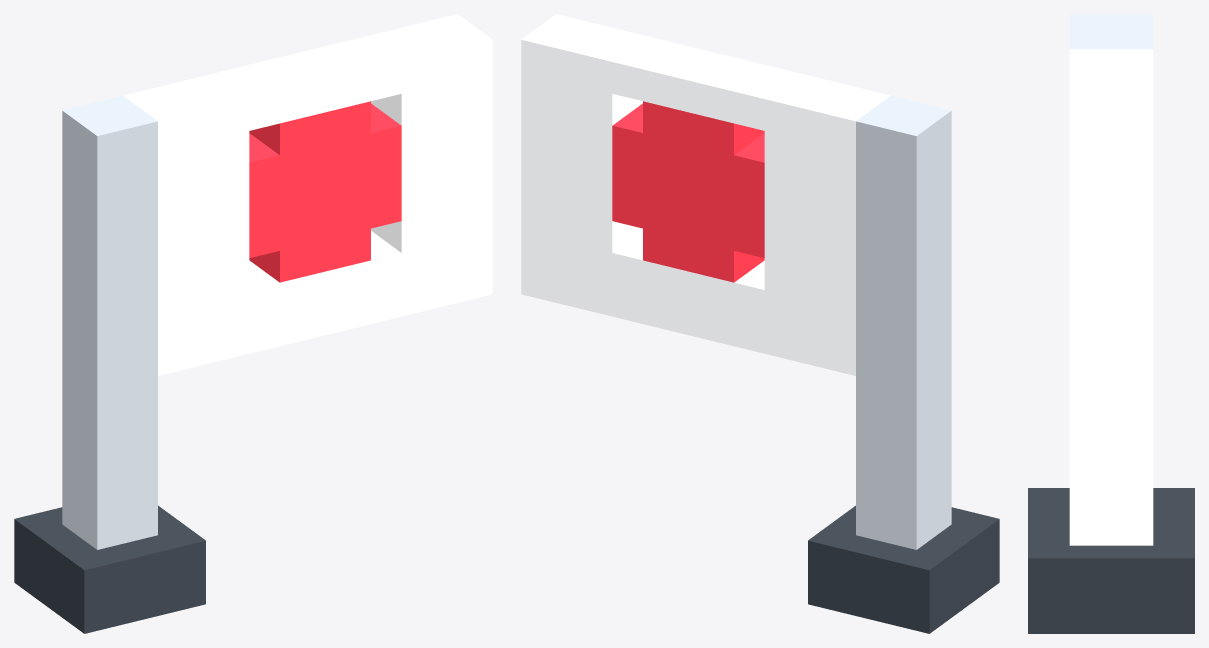
The model's file is voxel-flagjp.glb.
3 views of the same model, side by side, from view 1: azimuth 30°, elevation 25°; view 2: azimuth 150°, elevation 25°; view 3: azimuth 270°, elevation 25° (orthographic). The views are drawn at different scales.
Visible parts, largest first — view 1: flagjp; view 2: flagjp; view 3: flagjp.
Boxes of the visible parts, x1,y1,x2,y2 form: flagjp: (14,14,492,633); flagjp: (521,14,999,633); flagjp: (1028,14,1194,633).
Bounding box in the file's own units: 2.24 × 2.4 × 0.64.
